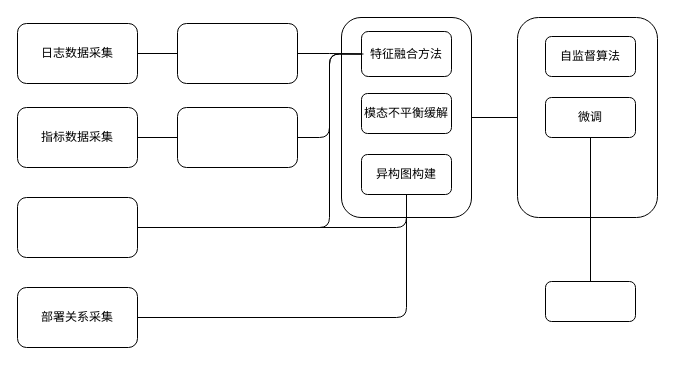
Some shapes in this 675 by 365 pixel diagram are drawn without their labels. The box of each missing label's shape, as (x1, y1, x2, y2) in pixels:
时序特征提取: (176, 106, 298, 168)
混沌工程: (544, 280, 636, 322)
语义特征提取: (176, 22, 298, 84)
调用链信息采集: (16, 196, 138, 258)
